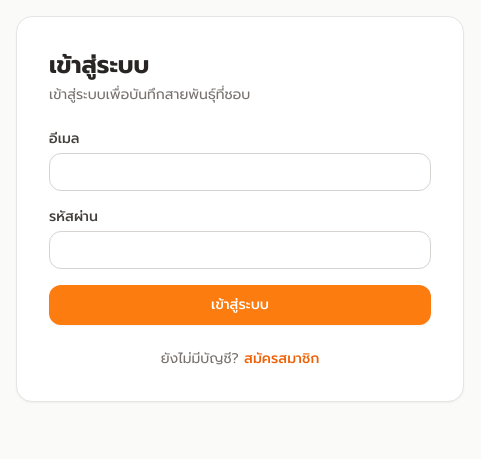
Test: หน้า Login › ส่งฟอร์มว่าง → แสดงข้อความเตือน และไม่เรียก API
Click the button "เข้าสู่ระบบ" at (240, 305), box [49, 285, 431, 325]
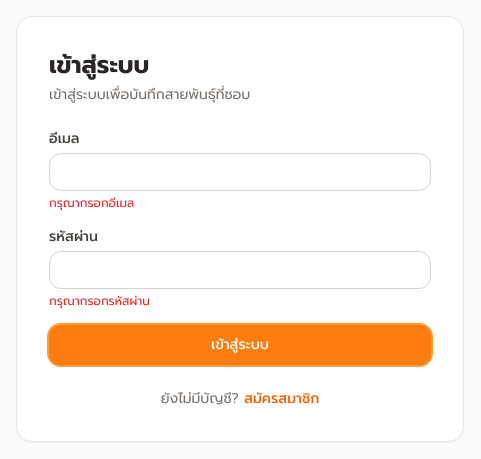
Expected: the text "กรุณากรอกอีเมล" is shown, [49, 194, 134, 212]
Expected: the text "กรุณากรอกรหัสผ่าน" is shown, [49, 292, 150, 310]
